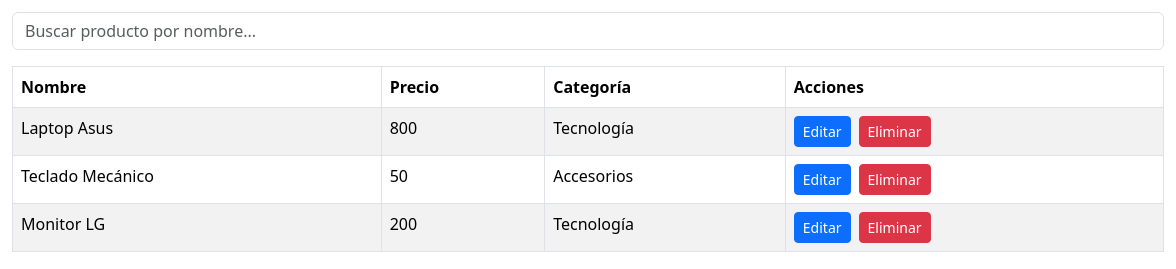
it: ProductTable.vue › debería filtrar los productos por nombre usando el buscador
The width and height of the screenshot is (1176, 269).
Note: Buscamos el input de texto e ingresamos "Laptop"
Type "Laptop" into the field with placeholder "Buscar producto por nombre...".
click(588, 31); type("Laptop")  # box x1=12 y1=12 x2=1164 y2=50
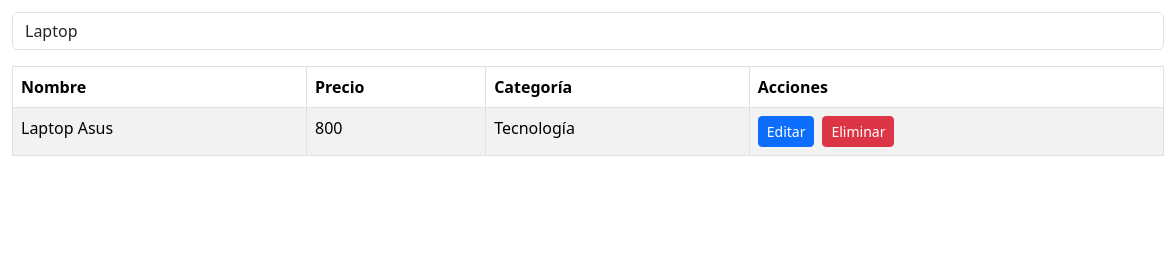
Expected: the text "Laptop Asus" is shown, x1=12 y1=108 x2=306 y2=156
Expected: the text "Teclado Mecánico" is gone
